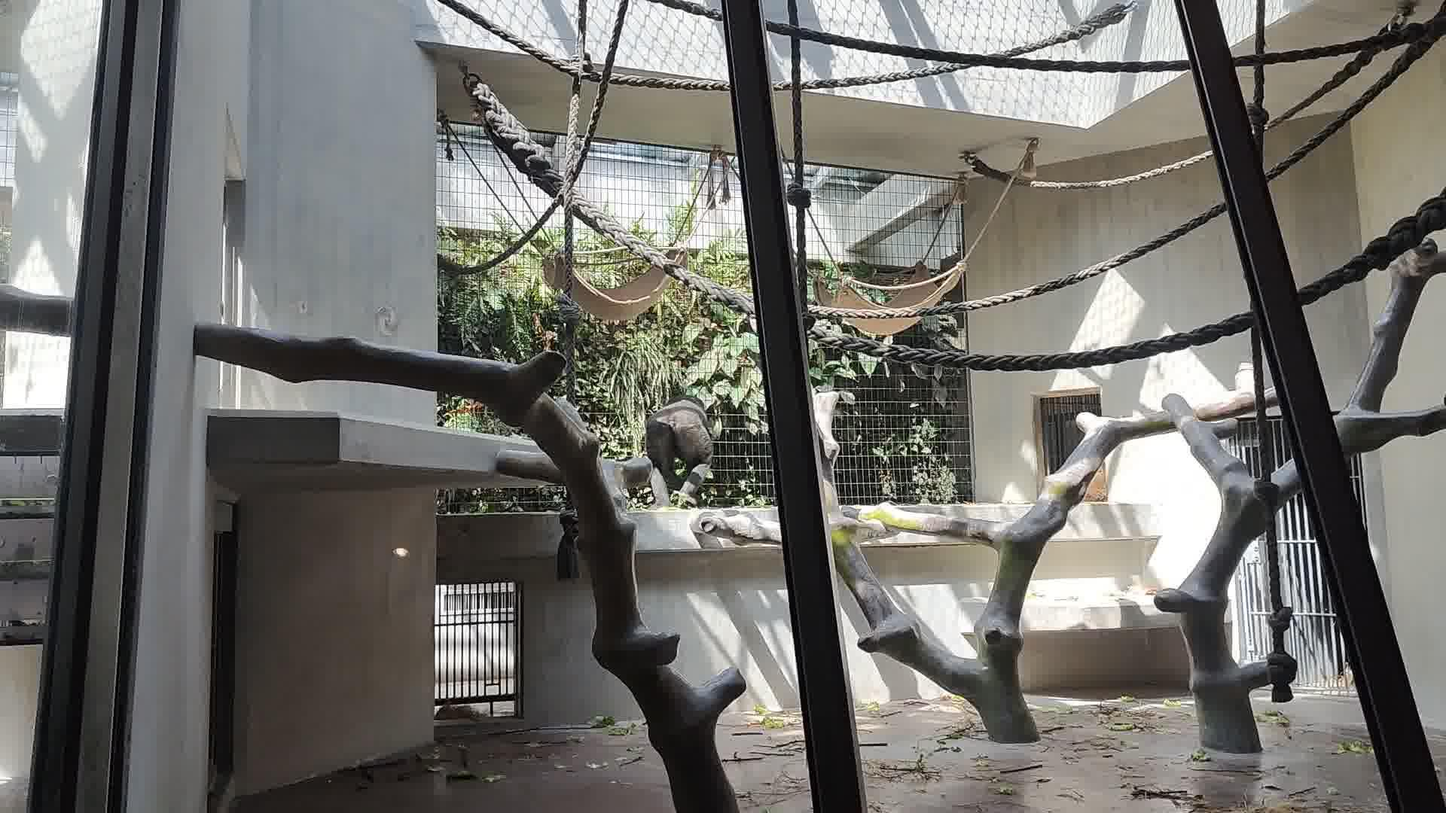boar: (647, 397, 714, 510)
